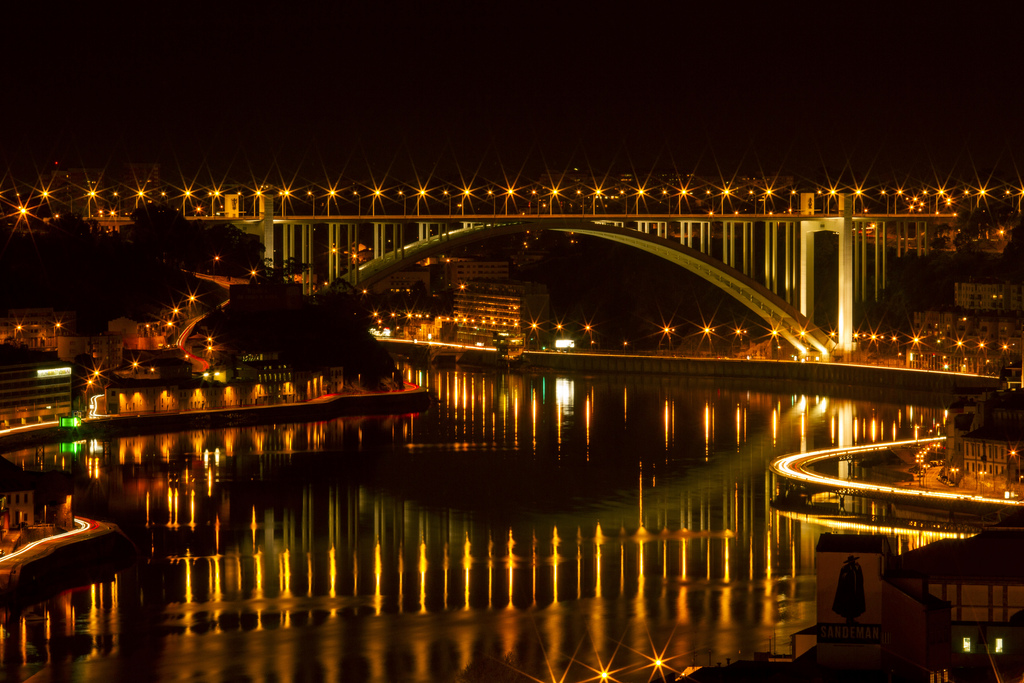arrabida: (195, 191, 965, 367)
